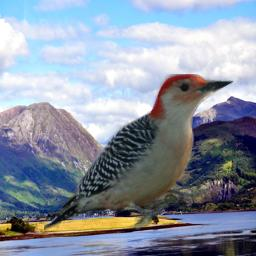Woodpecker: (44, 74, 237, 230)
